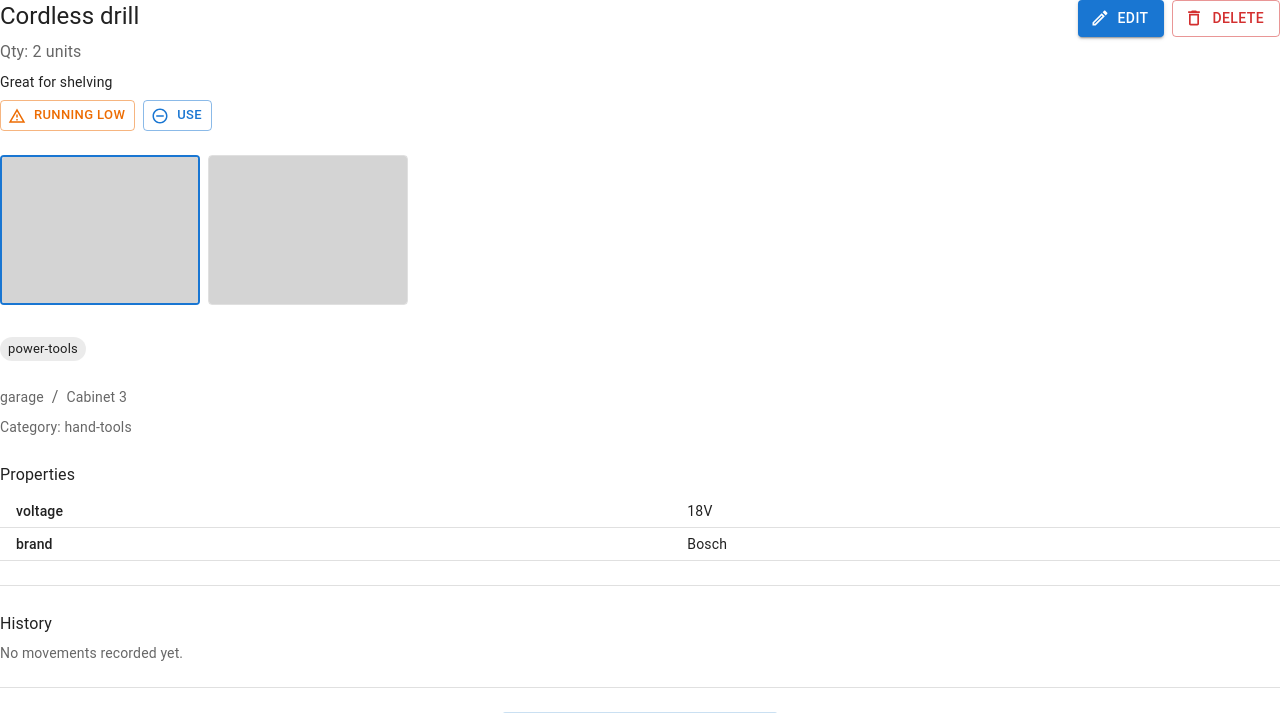
Test: ItemDetailPage › shows an error alert if deleting the item fails
The image size is (1280, 713).
Expected: the heading "Cordless drill" is shown, top-left (0, 2), bottom-right (139, 30)
Click the button "Delete": (1226, 18) top-left (1172, 0), bottom-right (1279, 36)
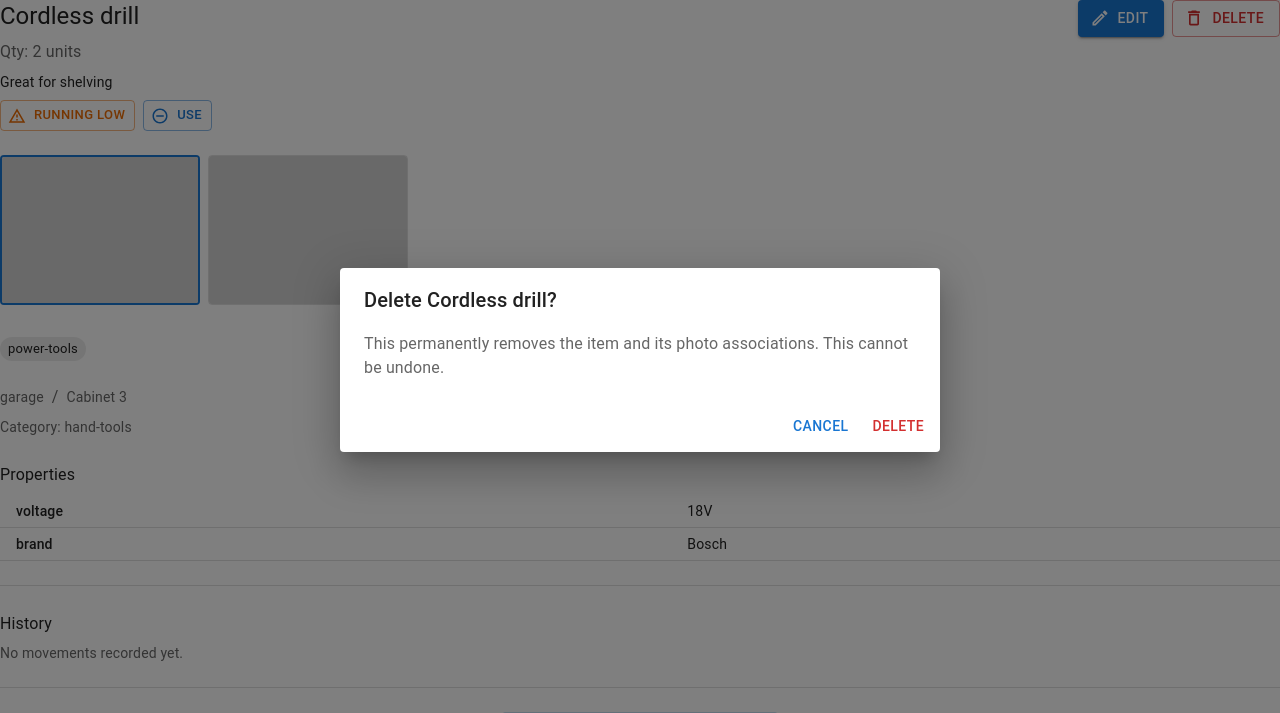
Click the button "Delete": (898, 426) top-left (864, 408), bottom-right (932, 444)
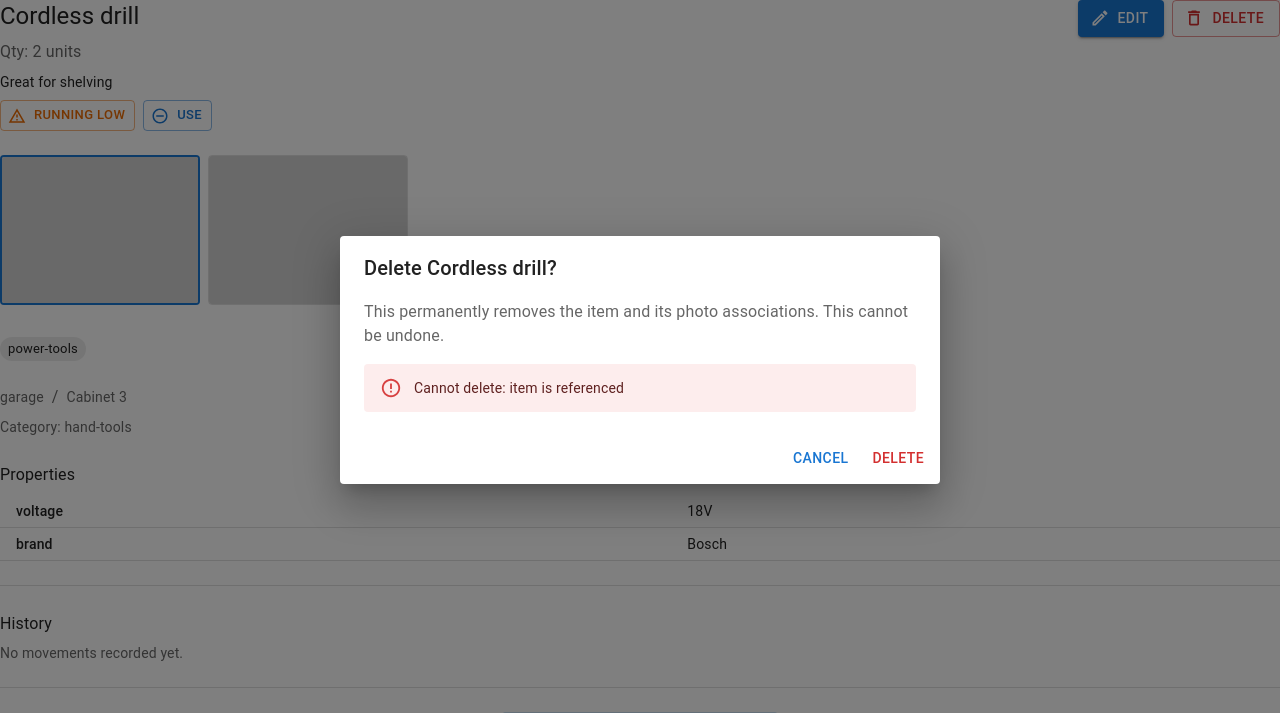
Result: the text "Cannot delete: item is referenced" is shown at top-left (414, 380), bottom-right (624, 396)
